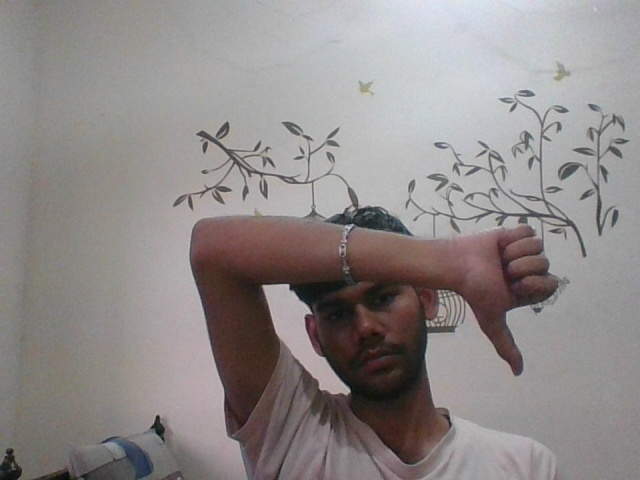No: (454, 216, 592, 378)
